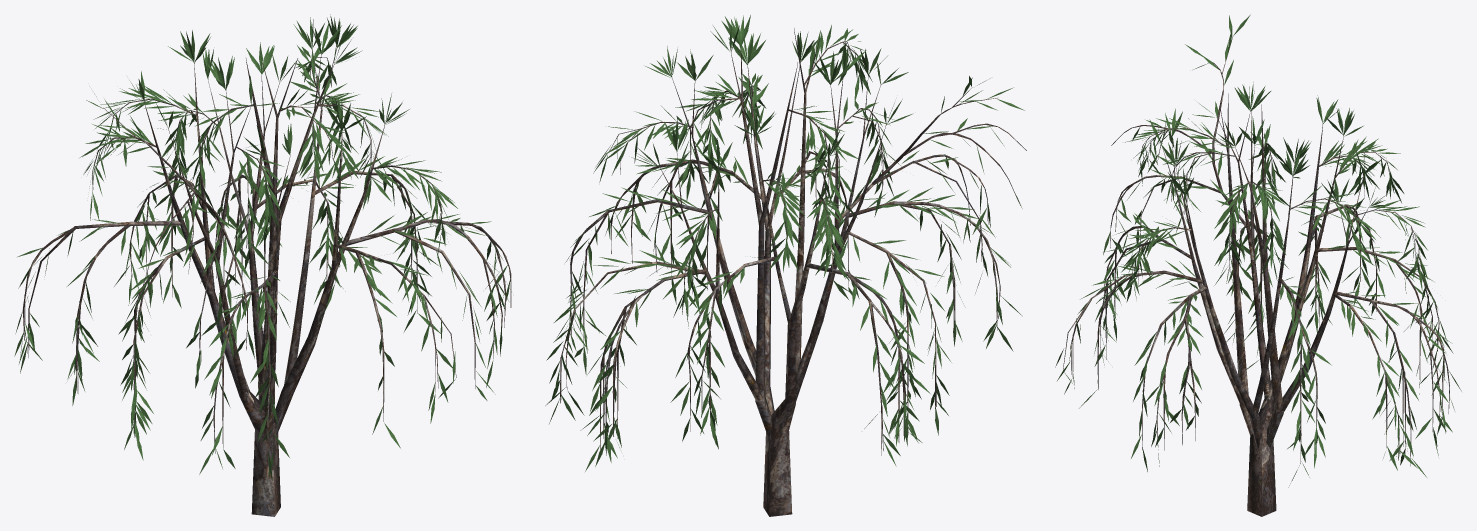
Rendered from tree1.fbx.
3 renders of one model, left to right at view 1: azimuth 30°, elevation 25°; view 2: azimuth 150°, elevation 25°; view 3: azimuth 270°, elevation 25°, orthographic. The views are drawn at different scales.
Parts seen in each view (by area): view 1: tree1_LOD0; view 2: tree1_LOD0; view 3: tree1_LOD0.
Boxes of the visible parts, left/top/right/bottom form: tree1_LOD0: left=14, top=14, right=511, bottom=516; tree1_LOD0: left=545, top=15, right=1026, bottom=516; tree1_LOD0: left=1055, top=14, right=1461, bottom=516.
Size of what is drawn, in the model's own units: 1133 by 1246 by 1103.
